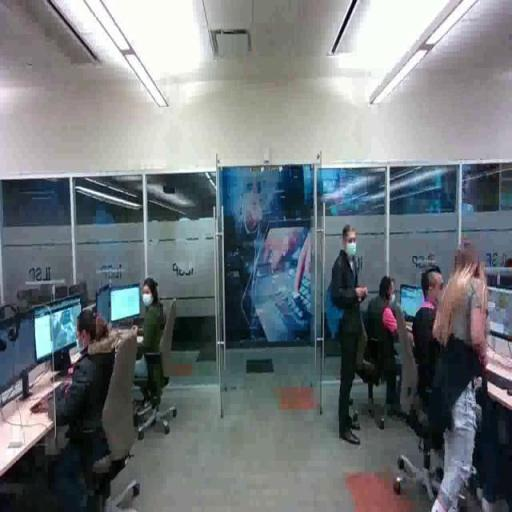person: (430, 242, 489, 512), (46, 303, 123, 502), (327, 226, 372, 445), (411, 265, 460, 445), (367, 273, 414, 418), (124, 280, 170, 405)
